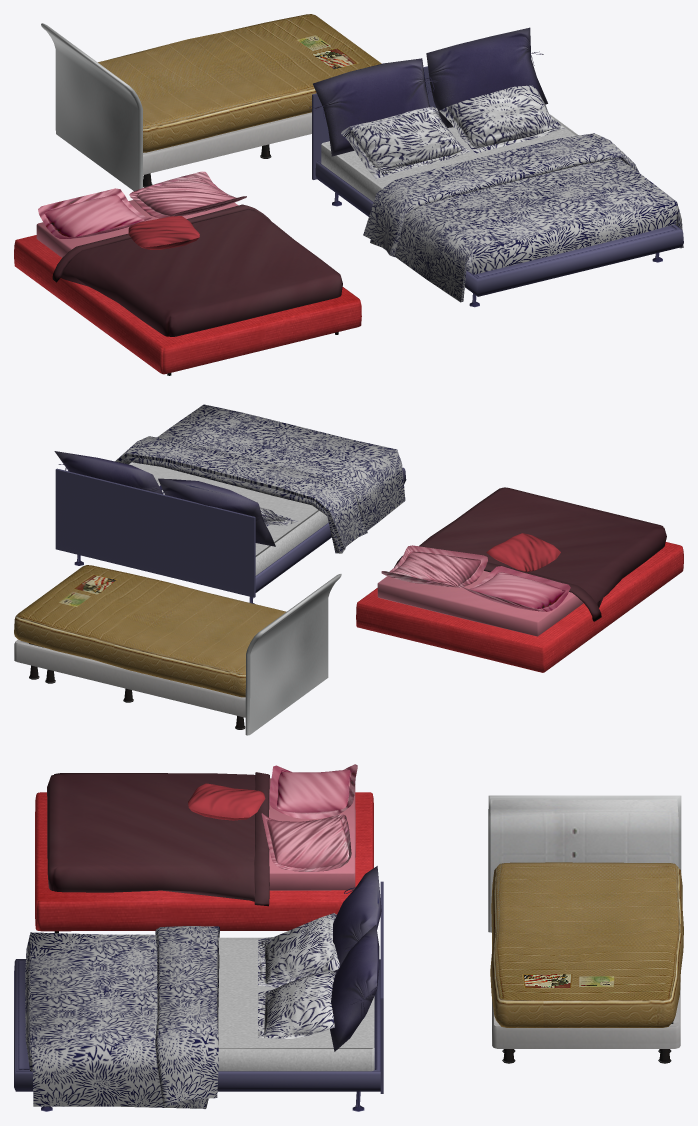
Rendered from beds.FBX.
3 renders of one model, top to bottom at view 1: azimuth 30°, elevation 25°; view 2: azimuth 150°, elevation 25°; view 3: azimuth 270°, elevation 25°, orthographic. The views are drawn at different scales.
Parts seen in each view (by area): view 1: Arch37_030_obj_1, Object01, Box02, Object002; view 2: Arch37_030_obj_1, Box02, Object01, Object002; view 3: Arch37_030_obj_1, Box02, Object01, Object002.
Boxes of the visible parts, box(x1,y1,x2,y2) form: Arch37_030_obj_1: box(309, 27, 683, 307); Object01: box(14, 200, 361, 375); Box02: box(41, 14, 381, 190); Object002: box(38, 171, 246, 249); Arch37_030_obj_1: box(54, 404, 406, 603); Box02: box(14, 565, 341, 735); Object01: box(356, 487, 683, 672); Object002: box(381, 533, 570, 611); Arch37_030_obj_1: box(14, 866, 383, 1111); Box02: box(488, 795, 683, 1063); Object01: box(35, 772, 373, 933); Object002: box(188, 764, 357, 871).
Size of the model in its own units: 184 by 39.16 by 172.
